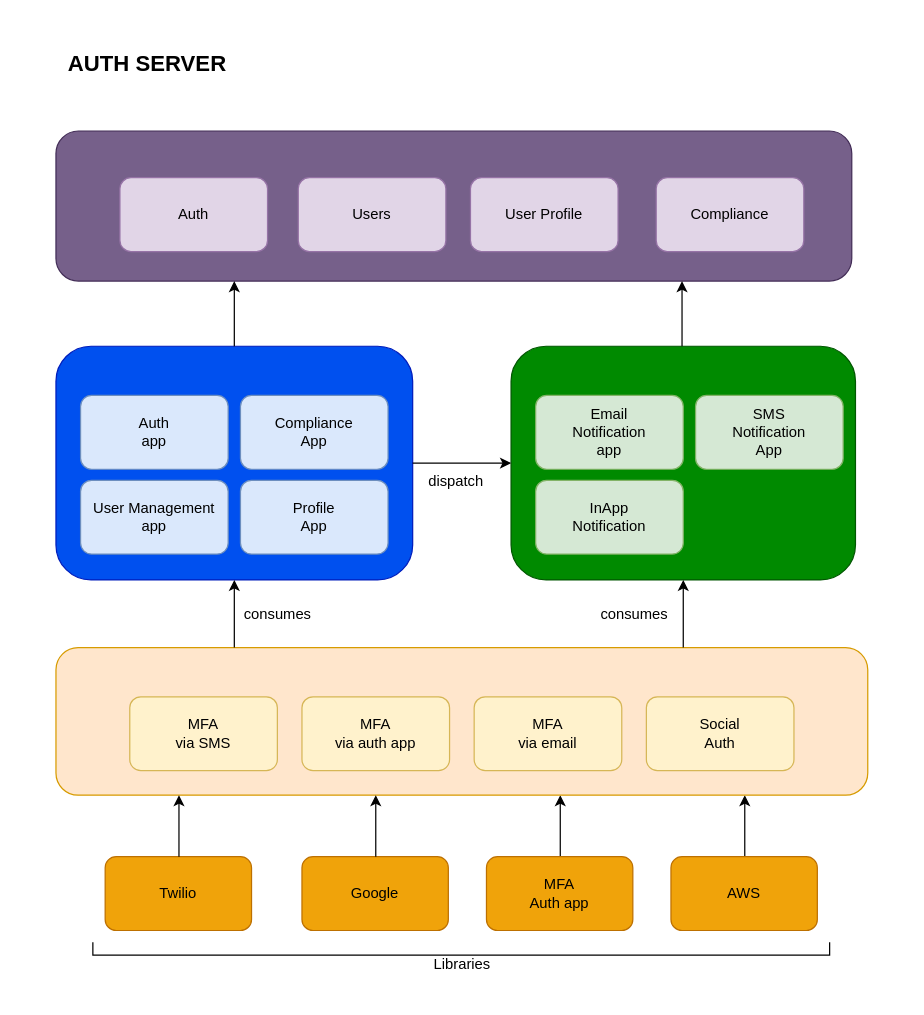
This 924x1015 diagram has some shape labels left out. Here are the shapes that lost their labels. From the top down, the box of each, then its label:
(55, 130, 852, 281): Communication Layer
(55, 345, 413, 580): Application Layer
(510, 345, 855, 580): Notification Layer
(55, 646, 868, 795): Infra Layer
